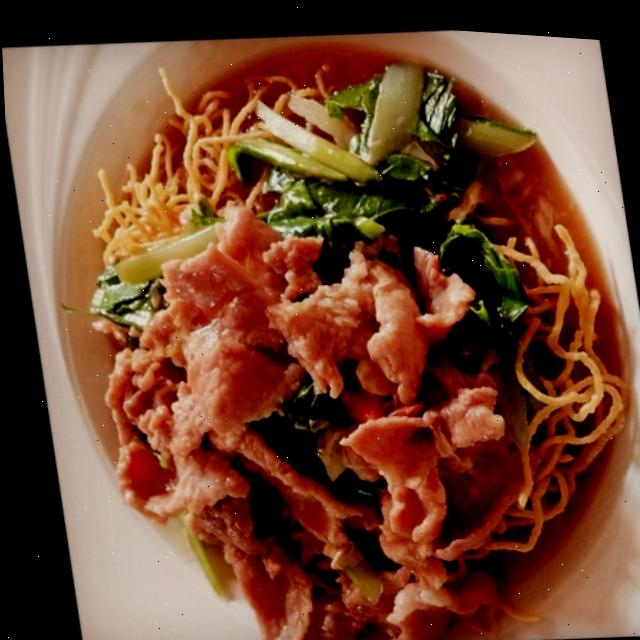面条主食: (40, 26, 636, 640)
